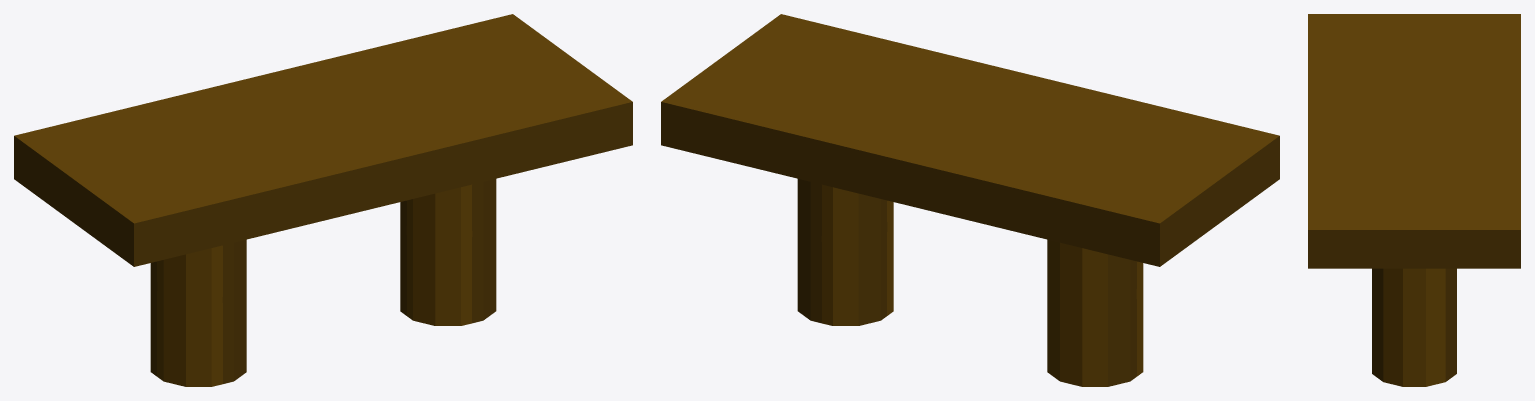
Rendered from bench.gltf.
3 renders of one model, left to right at view 1: azimuth 30°, elevation 25°; view 2: azimuth 150°, elevation 25°; view 3: azimuth 270°, elevation 25°, orthographic. The views are drawn at different scales.
Parts seen in each view (by area): view 1: cylinder; view 2: cylinder; view 3: cylinder.
Boxes of the visible parts, bbox=[...] form: cylinder: bbox=[14, 14, 632, 386]; cylinder: bbox=[661, 14, 1279, 386]; cylinder: bbox=[1308, 14, 1520, 386].
Bounding box in the file's own units: 15 × 6.25 × 6.25.
1 material, 1 textured.
